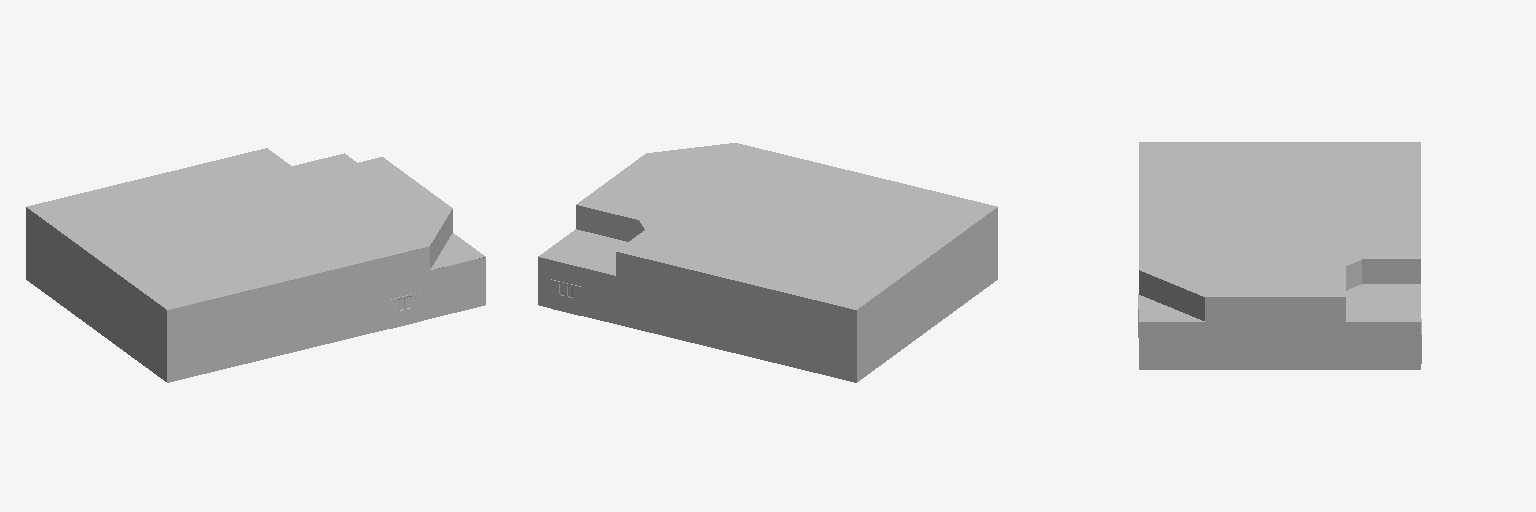
The model's file is Room.obj.
3 renders of one model, left to right at view 1: azimuth 30°, elevation 25°; view 2: azimuth 150°, elevation 25°; view 3: azimuth 270°, elevation 25°, orthographic.
Parts seen in each view (by area): view 1: Room; view 2: Room; view 3: Room.
Boxes of the visible parts, x1=… form: Room: x1=26, y1=148, x2=485, y2=382; Room: x1=538, y1=143, x2=997, y2=382; Room: x1=1138, y1=142, x2=1421, y2=369.
Size of the model in its own units: 20.54 by 4.49 by 15.89.